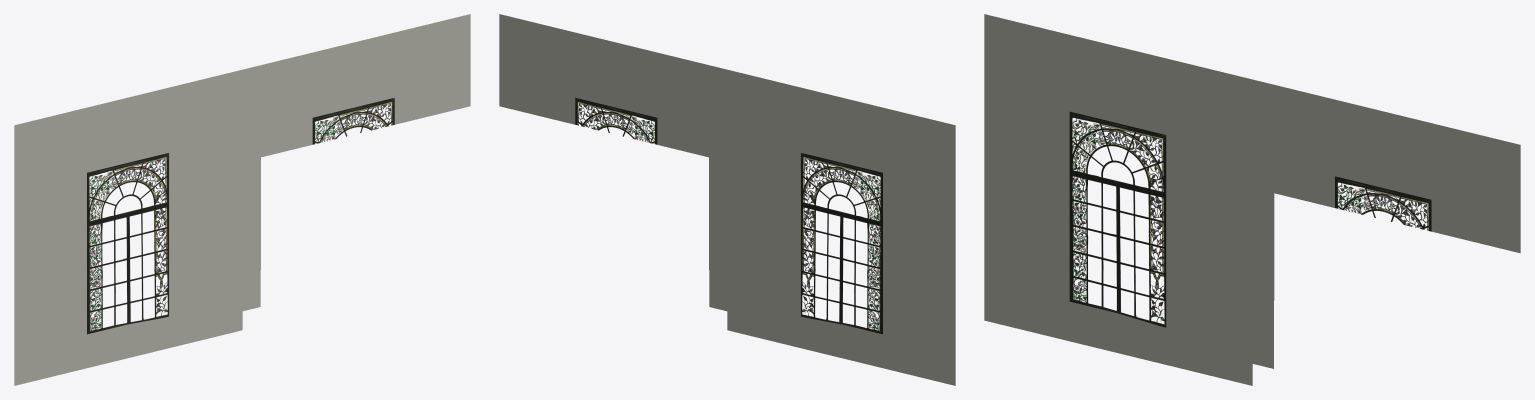
The model's file is B_axis_collider_1.glb.
The picture shows the model from 3 angles, left to right: view 1: azimuth 30°, elevation 25°; view 2: azimuth 150°, elevation 25°; view 3: azimuth 330°, elevation 25°; orthographic projection. The views are drawn at different scales.
Visible parts, largest first — view 1: B_x-axis_collider.1; view 2: B_x-axis_collider.1; view 3: B_x-axis_collider.1.
Boxes of the visible parts, box(x1,y1,x2,y2) form: B_x-axis_collider.1: box(14, 14, 470, 385); B_x-axis_collider.1: box(499, 14, 955, 385); B_x-axis_collider.1: box(984, 14, 1520, 385).
Size of the model in its own units: 10.63 by 5.81 by 0.
Materials: 1 (1 with a texture image).
